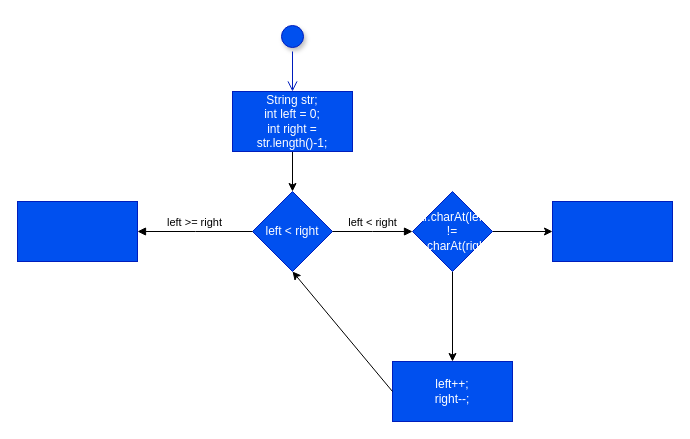
This 690x439 diagram has some shape labels left out. The centre of each missing label's shape, as x and y in pixels:
return false;: the point at 612,231
return true;: the point at 77,231
